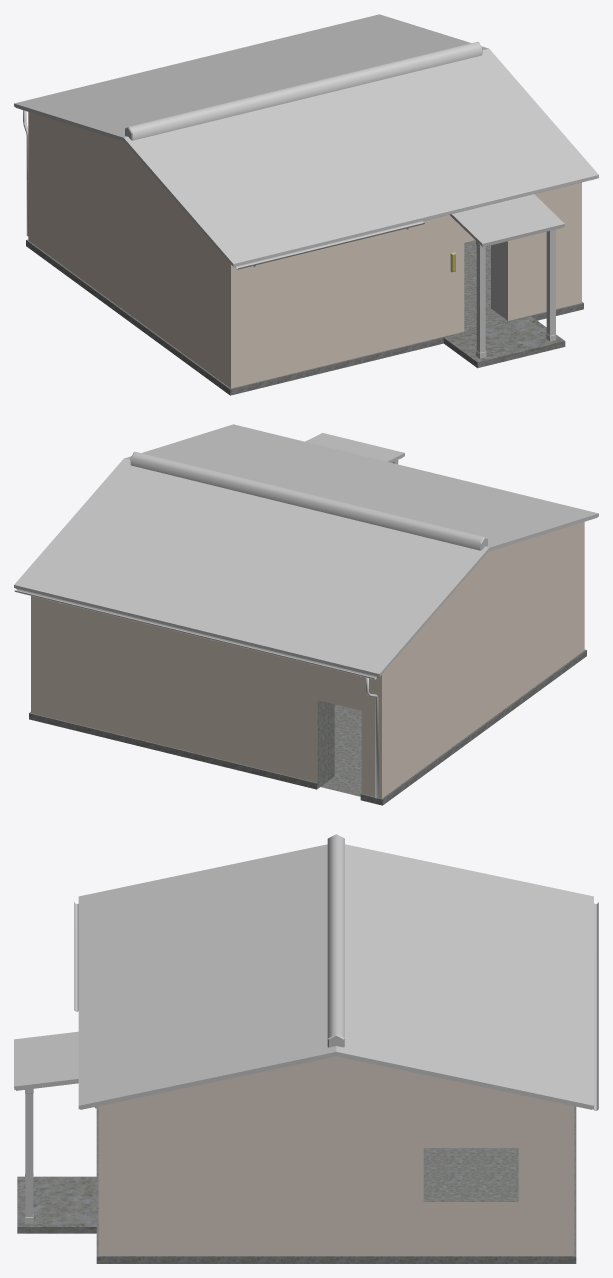
The model's file is JPBM11CBase.obj.
3 renders of one model, top to bottom at view 1: azimuth 30°, elevation 25°; view 2: azimuth 150°, elevation 25°; view 3: azimuth 270°, elevation 25°, orthographic. The views are drawn at different scales.
Visible parts, largest first — view 1: JPBM11CBase; view 2: JPBM11CBase; view 3: JPBM11CBase.
Boxes of the visible parts, x1,y1,x2,y2 form: JPBM11CBase: (14,14,598,395); JPBM11CBase: (14,424,598,805); JPBM11CBase: (14,834,598,1263).
Size of the model in its own units: 12.5 by 6.34 by 14.76.
